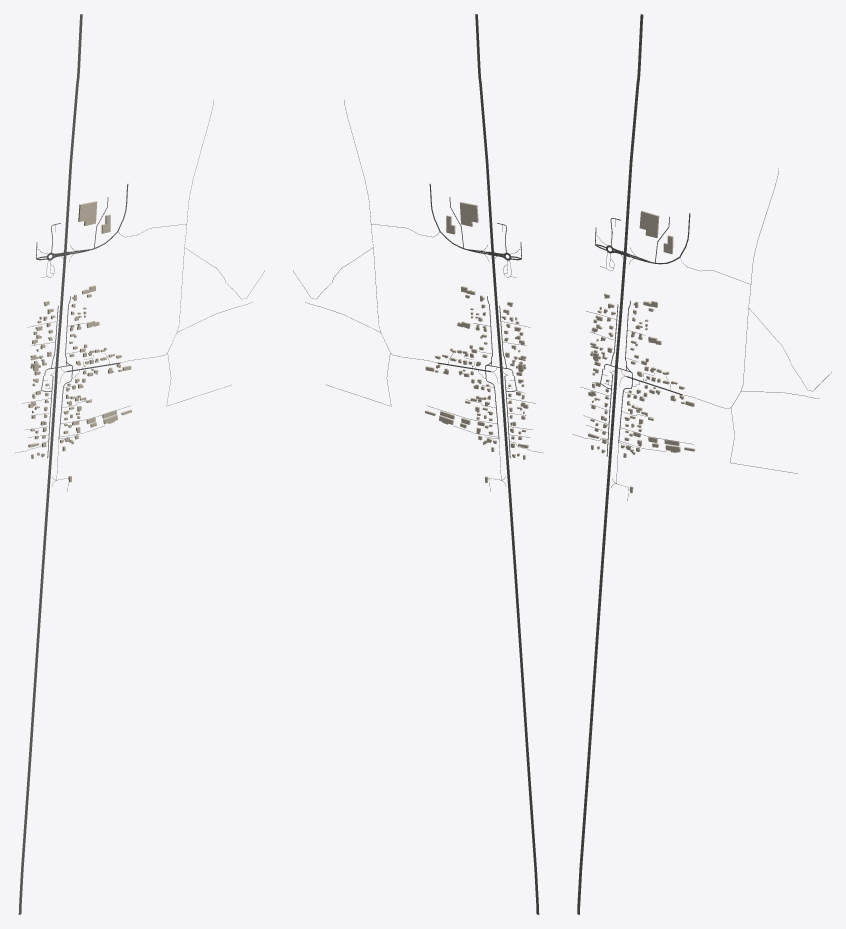
The model's file is historic-palestine-11_32_3529_3264.glb.
The picture shows the model from 3 angles, left to right: view 1: azimuth 30°, elevation 25°; view 2: azimuth 150°, elevation 25°; view 3: azimuth 330°, elevation 25°; orthographic projection. The views are drawn at different scales.
Parts seen in each view (by area): view 1: Road 60; view 2: Road 60; view 3: Road 60.
Boxes of the visible parts, x1,y1,x2,y2 form: Road 60: [18, 14, 82, 914]; Road 60: [475, 14, 539, 914]; Road 60: [577, 14, 643, 914].
Size of the model in its own units: 1119 by 3780 by 8.7.
